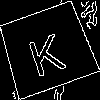K: (22, 24, 67, 78)
